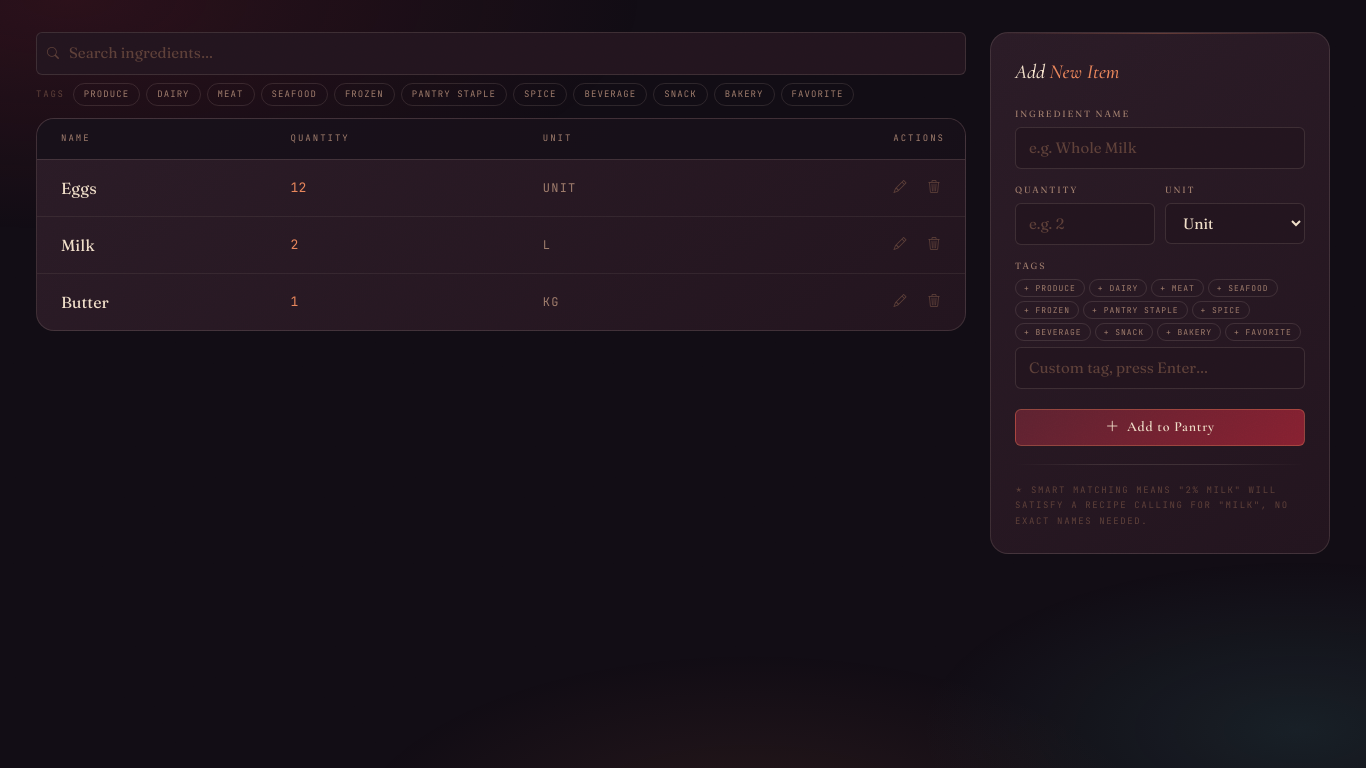
Test case: edit item › Cancel returns the row to read-only view
What coordinates should you click on to do the following:
click the button titled "Edit" in the row of "Eggs"
I would click on:
 (900, 188)
Its box is [885, 172, 915, 202].
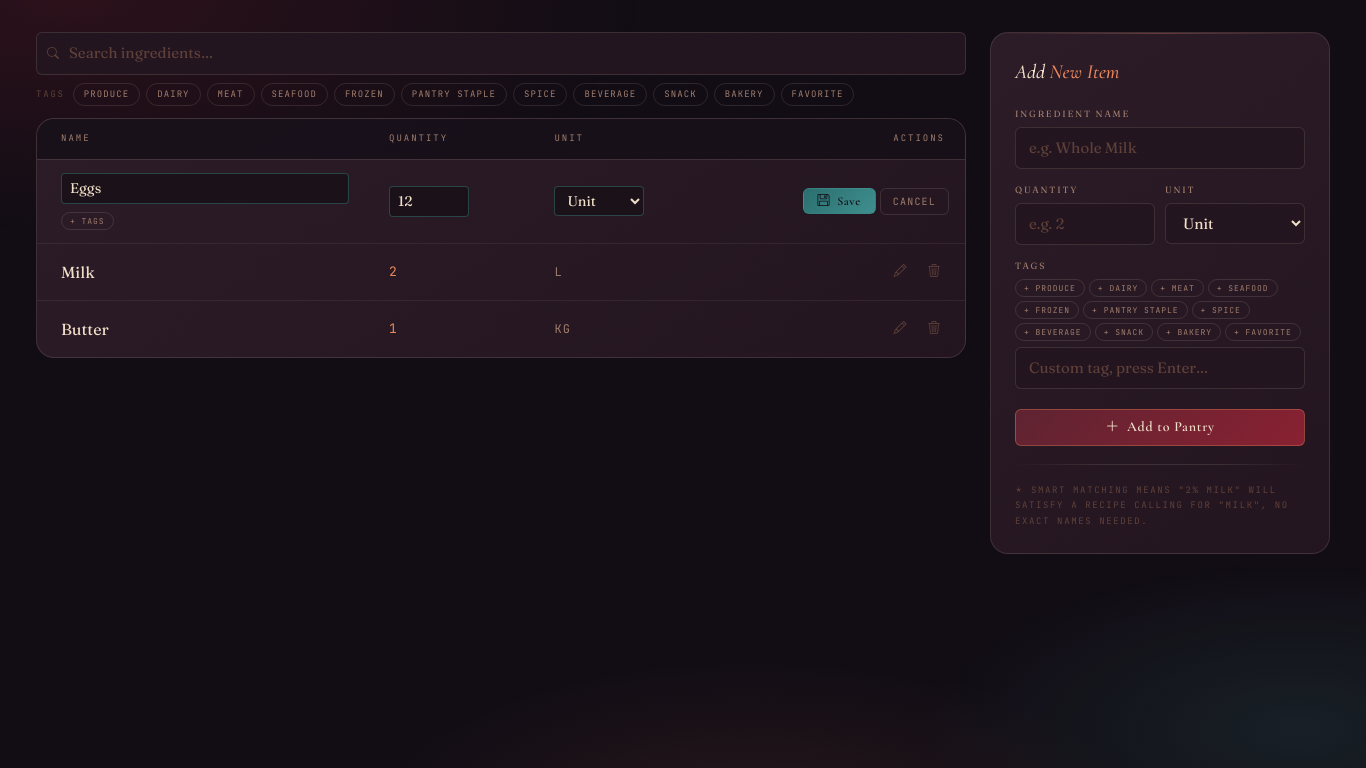
What coordinates should you click on to do the following:
click the button "Cancel"
I would click on:
 (914, 201)
Its box is [880, 188, 949, 214].
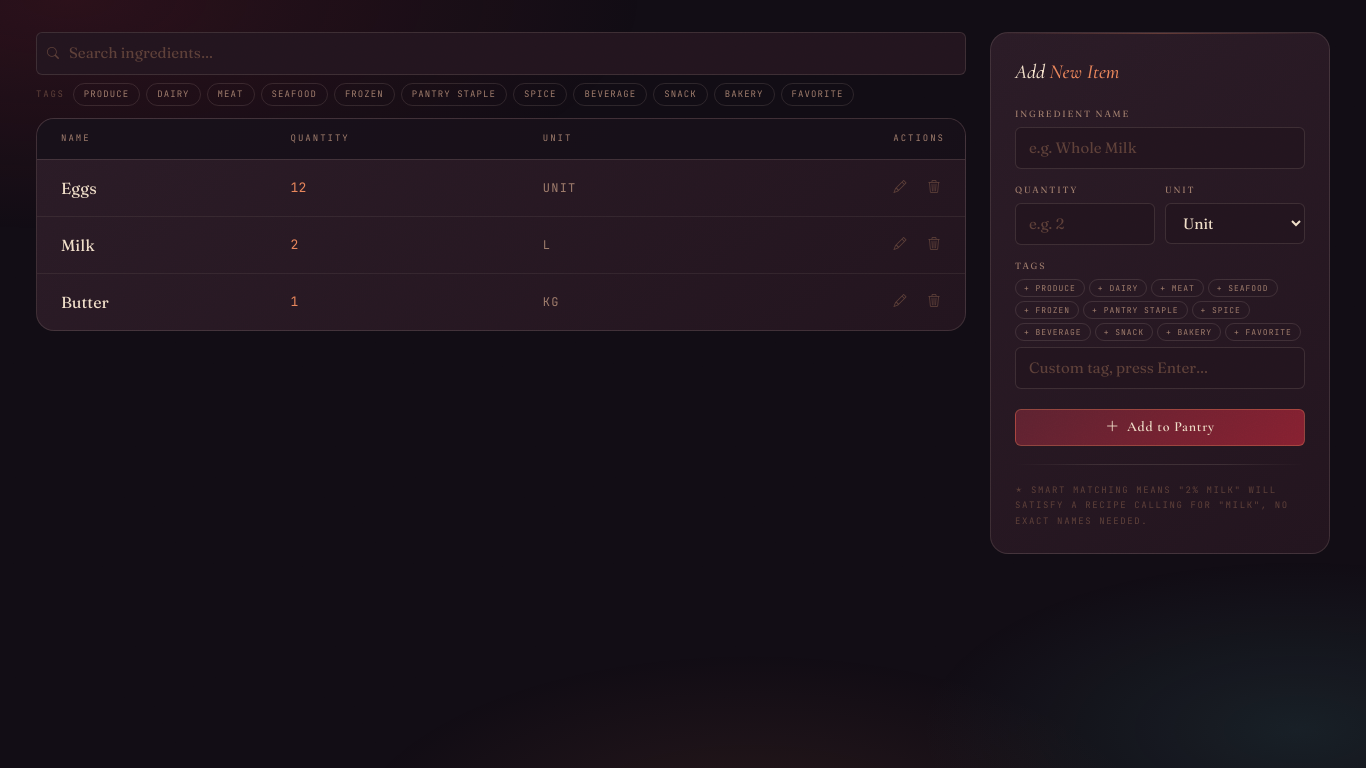
Expected: the text "Eggs" is shown, [37, 159, 271, 216]
